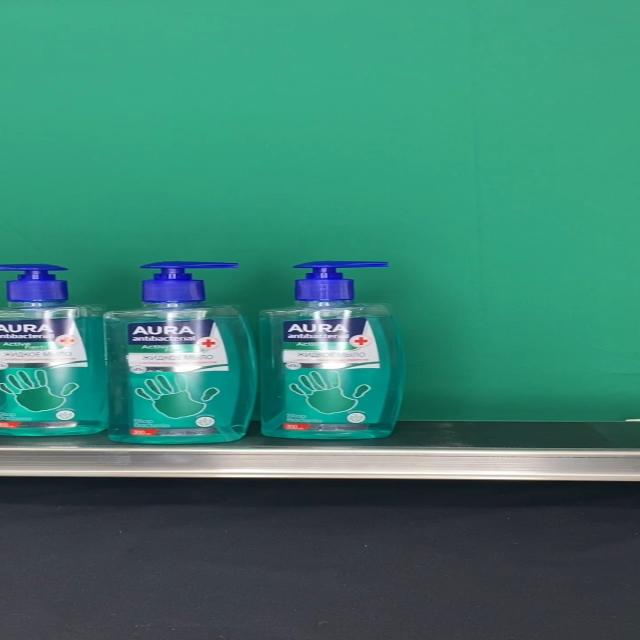Bottle: (104, 261, 256, 443), (256, 260, 406, 438), (0, 264, 108, 435)
Cap: (141, 261, 240, 303), (292, 260, 392, 301), (0, 264, 69, 301)
